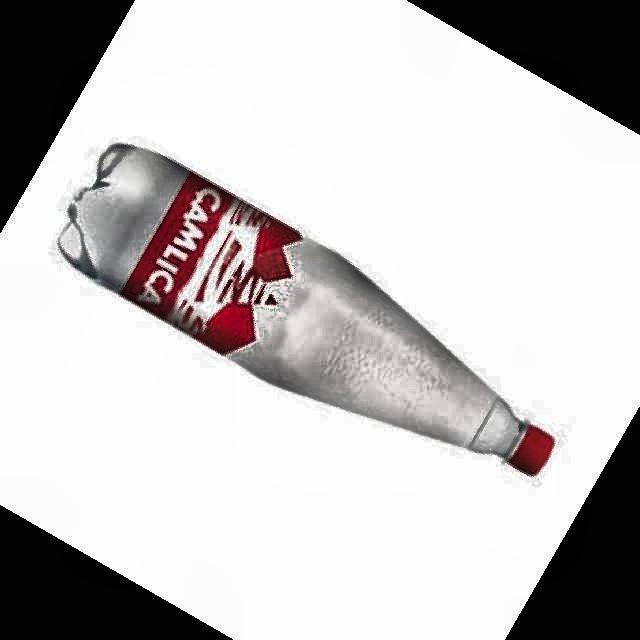plastic: (58, 145, 554, 475)
